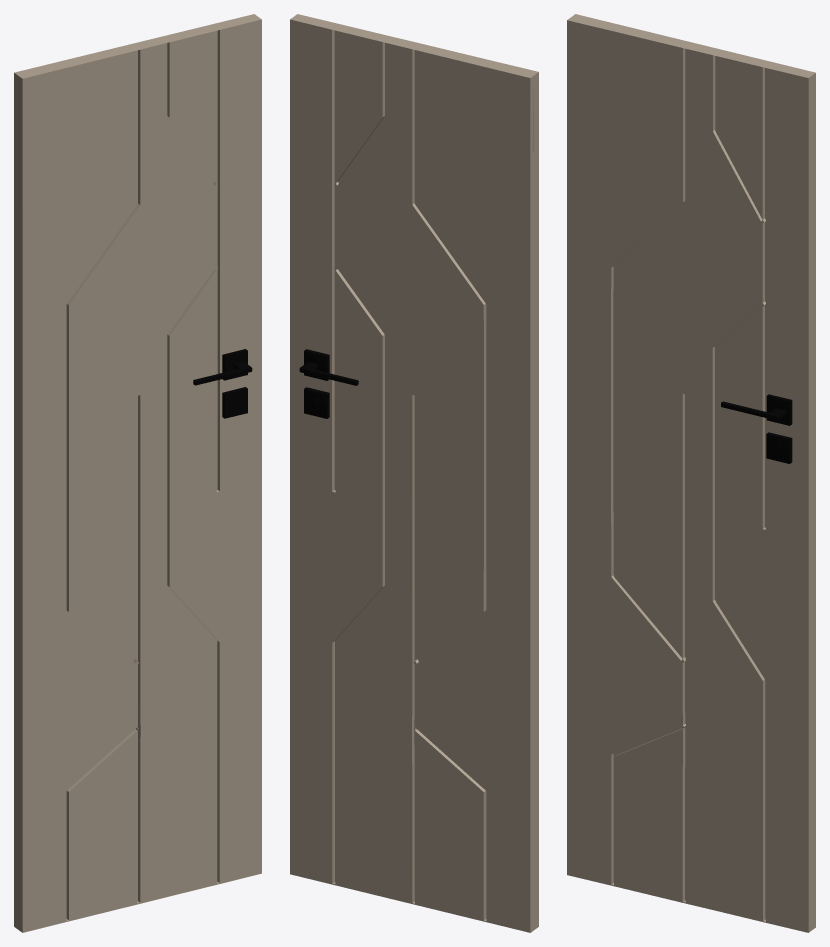
The picture shows the model from 3 angles, left to right: view 1: azimuth 30°, elevation 25°; view 2: azimuth 150°, elevation 25°; view 3: azimuth 330°, elevation 25°; orthographic projection.
Parts seen in each view (by area): view 1: RP_2__half_door_.001; view 2: RP_2__half_door_.001; view 3: RP_2__half_door_.001.
Part boxes in pixels (<box>): RP_2__half_door_.001: <box>14,14,261,932</box>; RP_2__half_door_.001: <box>290,14,538,932</box>; RP_2__half_door_.001: <box>567,14,815,932</box>.
Size of the model in its own units: 0.5169 by 1.76 by 0.107.
Materials: 1 (1 with a texture image).
